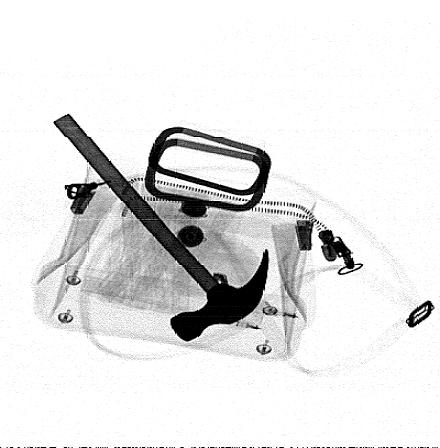Hammer: (53, 113, 269, 343)
